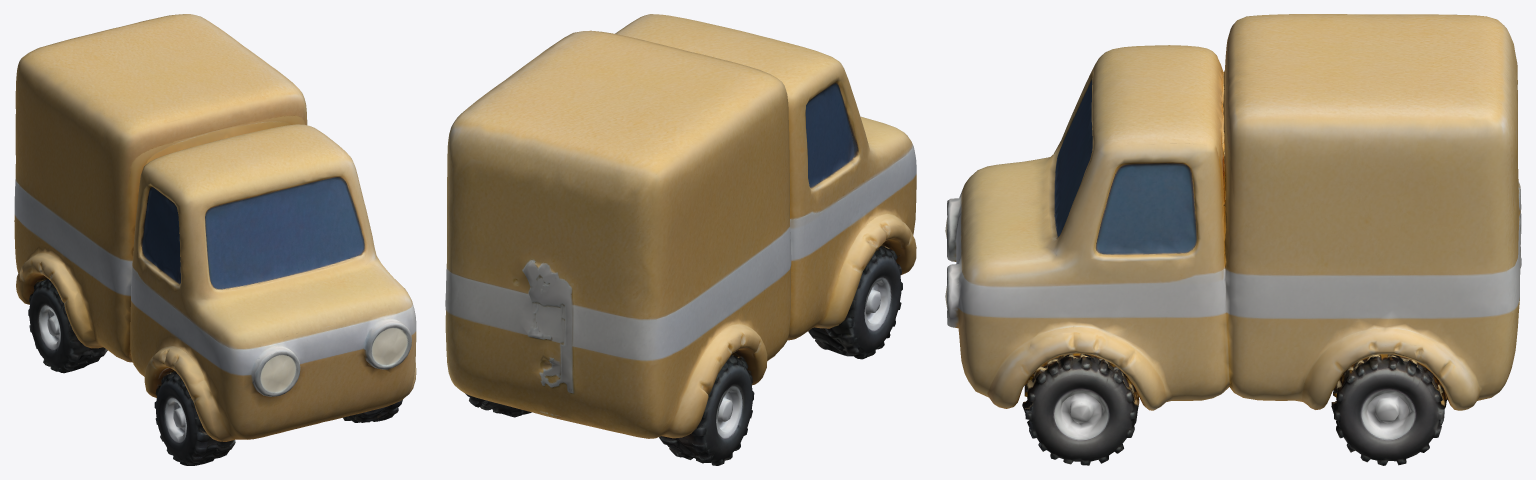
File: Car_Van.fbx
The picture shows the model from 3 angles, left to right: view 1: azimuth 30°, elevation 25°; view 2: azimuth 150°, elevation 25°; view 3: azimuth 270°, elevation 25°; orthographic projection. The views are drawn at different scales.
Parts seen in each view (by area): view 1: texture_mapping; view 2: texture_mapping; view 3: texture_mapping.
Boxes of the visible parts, x1=… form: texture_mapping: x1=14, y1=14, x2=416, y2=465; texture_mapping: x1=445, y1=14, x2=916, y2=465; texture_mapping: x1=945, y1=14, x2=1521, y2=465.
Bounding box in the file's own units: 0.5333 × 0.9963 × 0.6691.
Materials: 1 (1 with a texture image).
